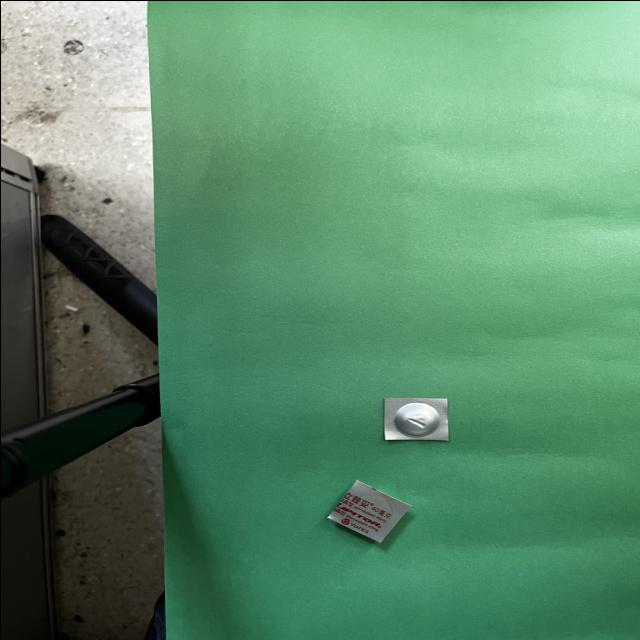Other Objects: (327, 480, 409, 542), (383, 396, 446, 440)
